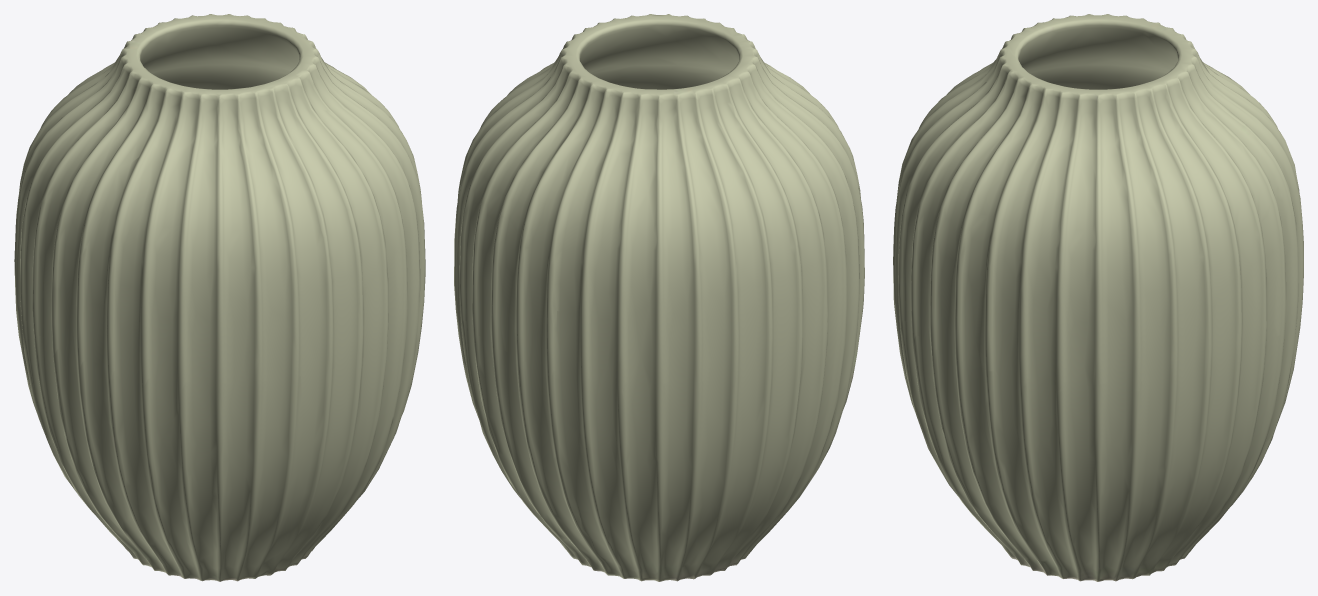
3 renders of one model, left to right at view 1: azimuth 30°, elevation 25°; view 2: azimuth 150°, elevation 25°; view 3: azimuth 270°, elevation 25°, orthographic.
Visible parts, largest first — view 1: ASY_ART_90637746_S01_NV01; view 2: ASY_ART_90637746_S01_NV01; view 3: ASY_ART_90637746_S01_NV01.
Boxes of the visible parts, <box> form: ASY_ART_90637746_S01_NV01: <box>14,14,425,581</box>; ASY_ART_90637746_S01_NV01: <box>454,14,864,581</box>; ASY_ART_90637746_S01_NV01: <box>893,14,1303,581</box>.
Bounding box in the file's own units: 0.096 × 0.126 × 0.096.
Materials: 2 (2 with a texture image).
